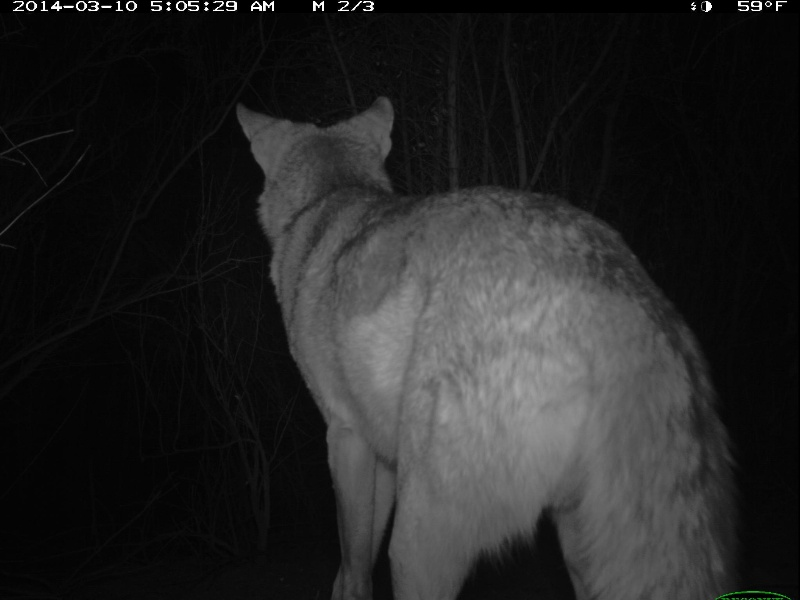coyote: (226, 87, 746, 600)
